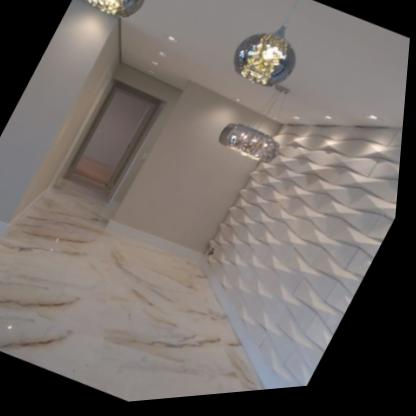Futech tiles: (227, 141, 404, 366)
